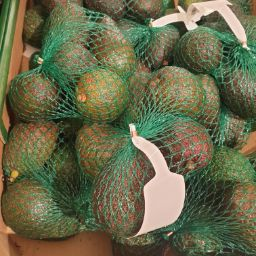Avocado: (27, 8, 256, 90), (146, 17, 256, 129), (172, 134, 256, 256), (46, 5, 137, 114), (74, 123, 148, 249), (1, 182, 81, 242), (7, 124, 63, 188), (12, 72, 61, 118)
